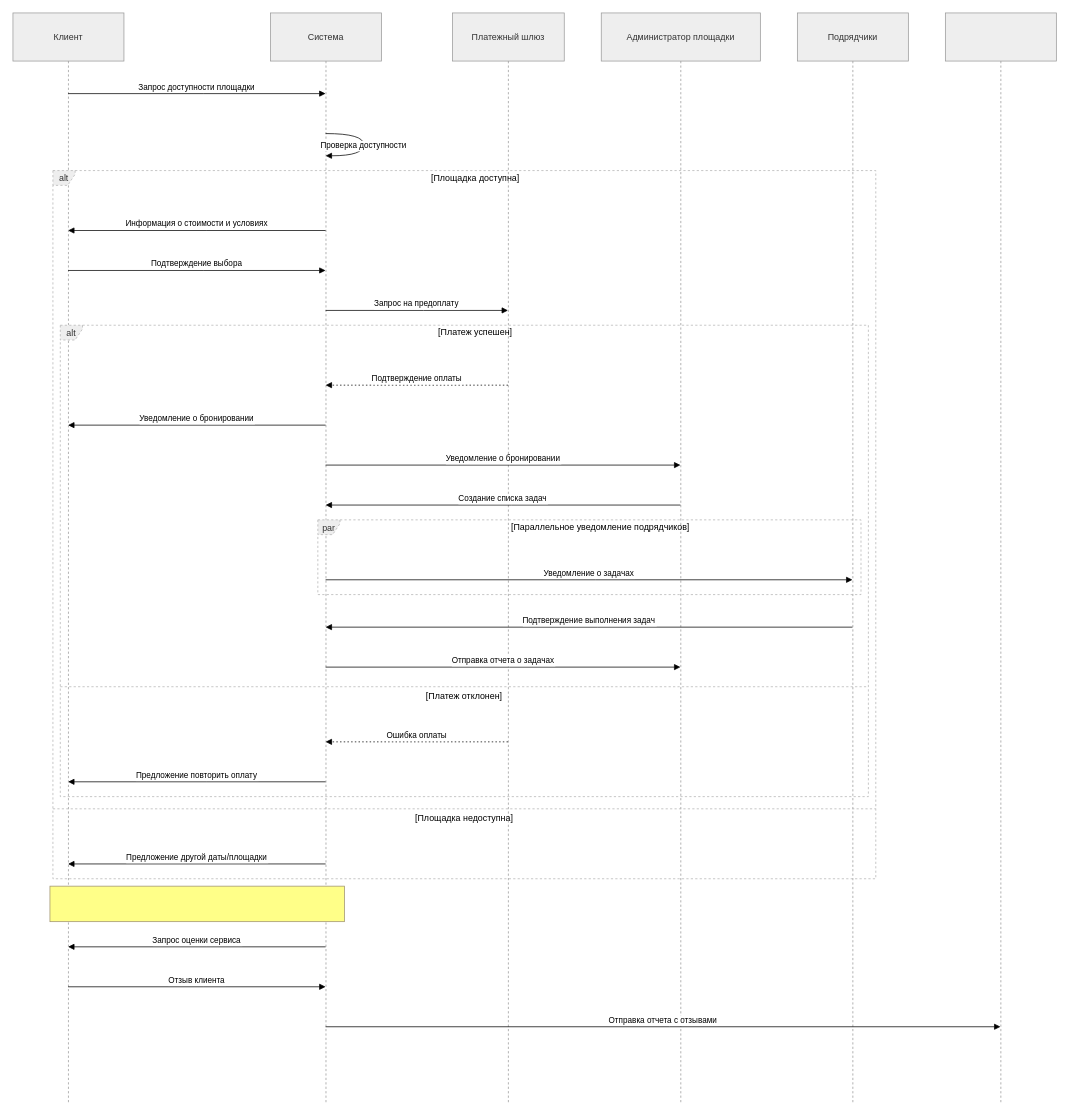
Some shapes in this 1069 by 1117 pixel diagram are drawn without their labels. The shapes that lost their labels are listed below. From the top down, each one's box as (x1, y1, x2, y2) in pixels, then its label:
(945, 12, 1056, 1104): Менеджер
(49, 885, 344, 922): Проведение мероприятия
